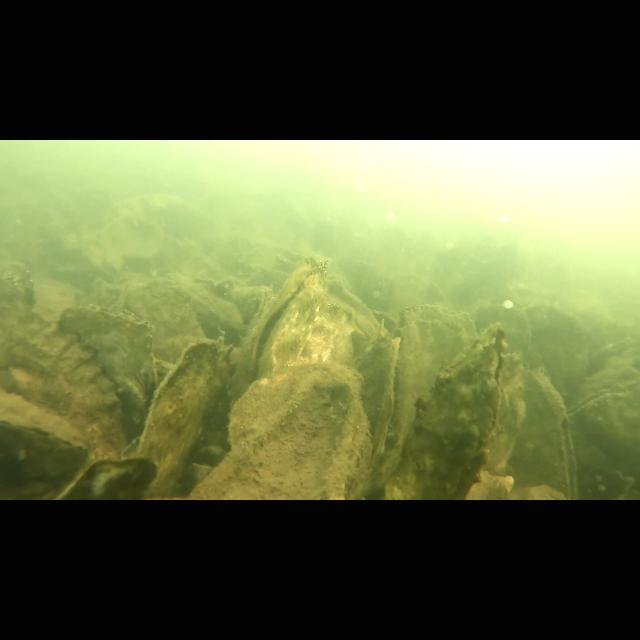Oyster-Closed: (188, 360, 368, 500), (0, 302, 130, 466), (136, 338, 228, 500), (57, 302, 159, 443), (399, 302, 476, 443), (513, 368, 581, 500), (0, 388, 90, 478), (484, 351, 532, 494), (356, 333, 400, 485), (57, 454, 156, 500)
Oyster-Open: (380, 324, 508, 500), (231, 256, 355, 396), (562, 378, 640, 500)
